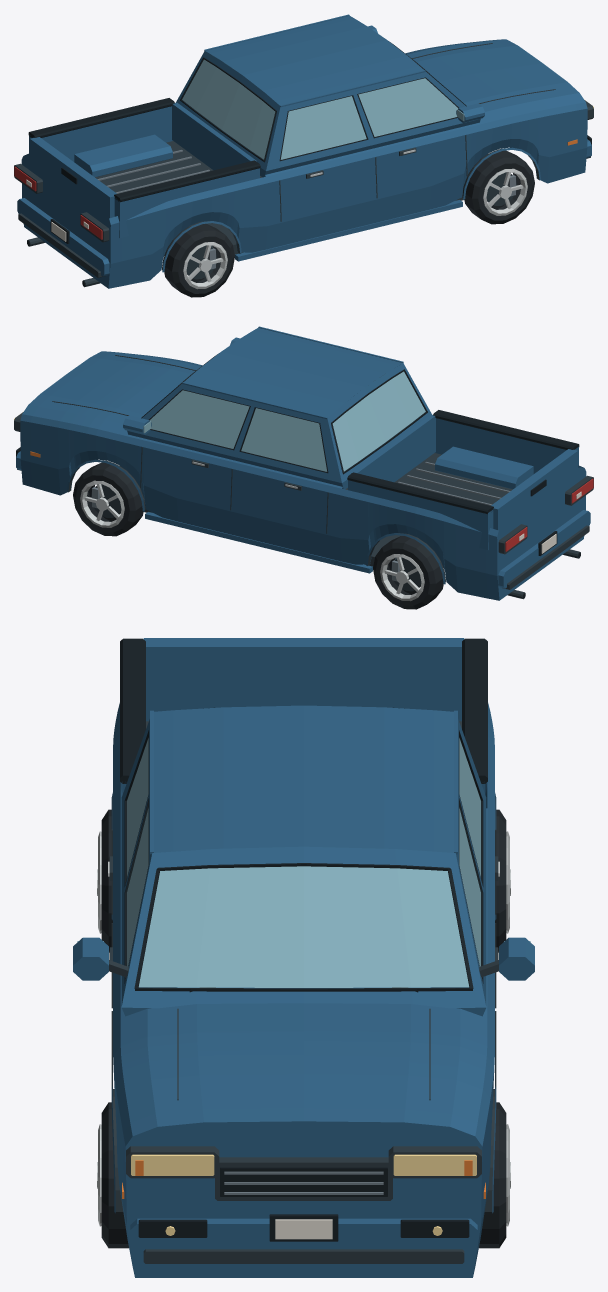
The model's file is b03_extended_cab_pickup.glb.
3 views of the same model, one above another, from view 1: azimuth 30°, elevation 25°; view 2: azimuth 150°, elevation 25°; view 3: azimuth 270°, elevation 25° (orthographic). The views are drawn at different scales.
Visible parts, largest first — view 1: b03_extended_cab_pickup; view 2: b03_extended_cab_pickup; view 3: b03_extended_cab_pickup.
Part boxes in pixels (bbox=[...]): b03_extended_cab_pickup: bbox=[14, 14, 593, 297]; b03_extended_cab_pickup: bbox=[14, 326, 593, 609]; b03_extended_cab_pickup: bbox=[73, 638, 534, 1277].
Bounding box in the file's own units: 6 × 1.9 × 2.42.
